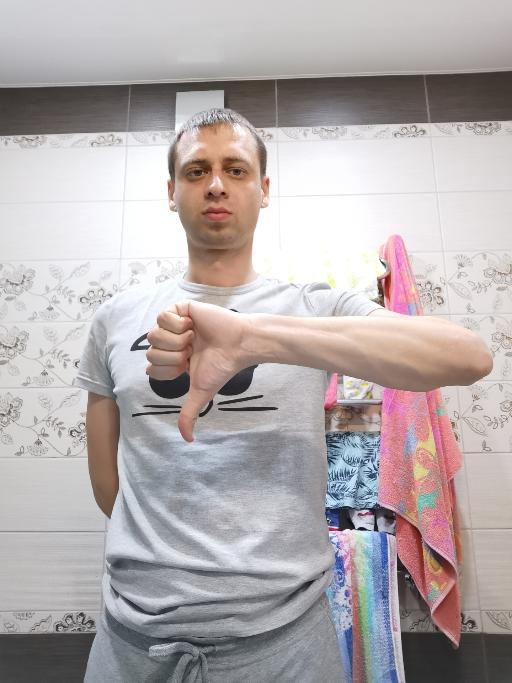dislike: (143, 298, 251, 437)
